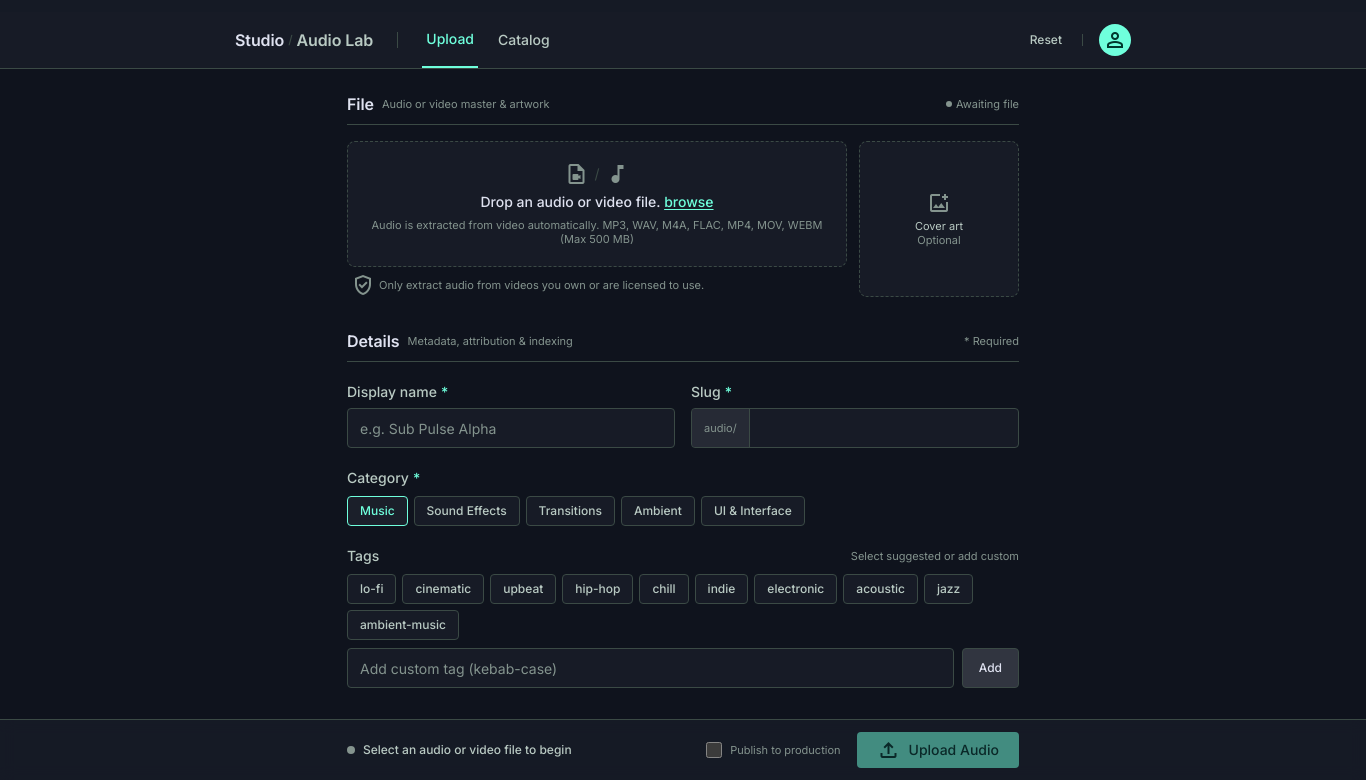
it: Audio Lab — Exact UI & Admin Protection Flow › renders the Details form with empty defaults and handles title change with slug auto-generation
Note: Change title — slug should auto-generate
Type "Cosmic Odyssey" into the field with placeholder "e.g. Sub Pulse Alpha" at x=511, y=428, box [347,408,675,448]
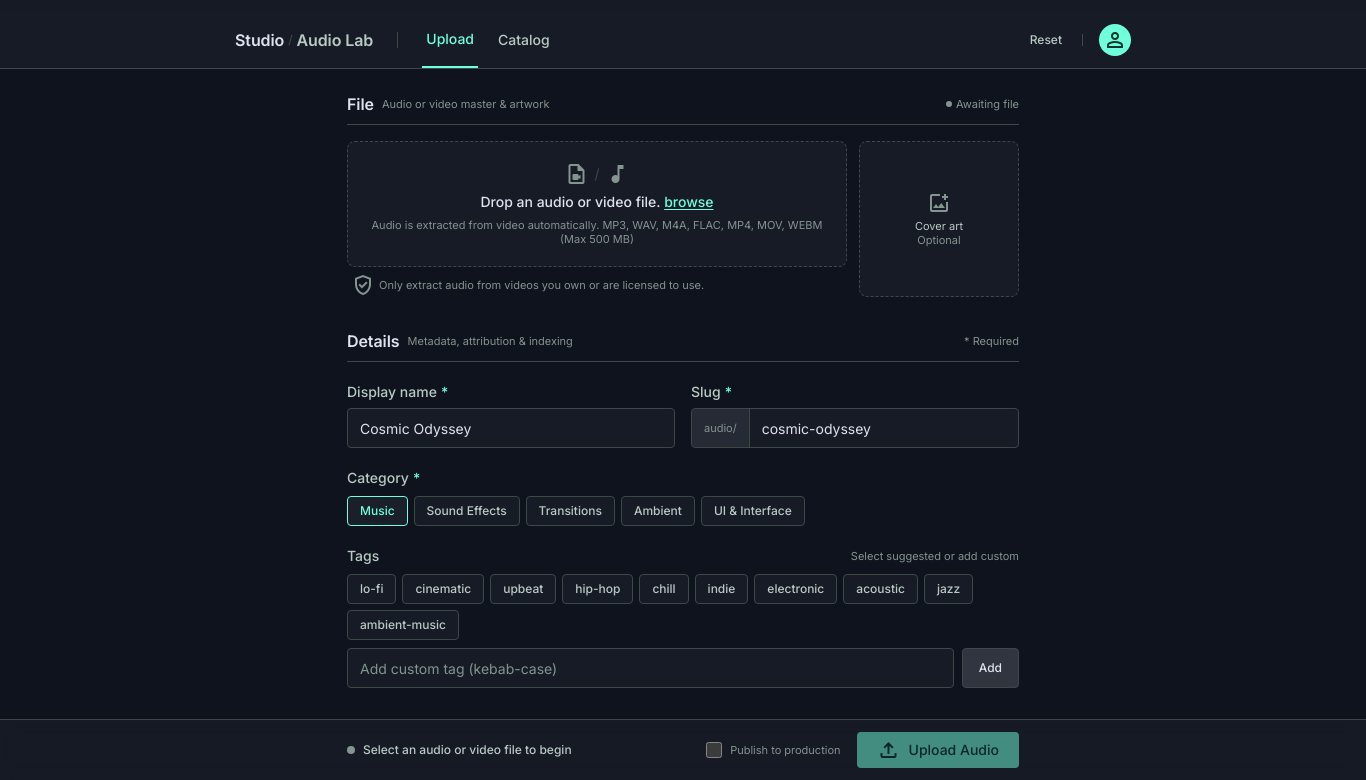
Check: the field with id "track-slug" holds "cosmic-odyssey", box [750,409,1018,447]
